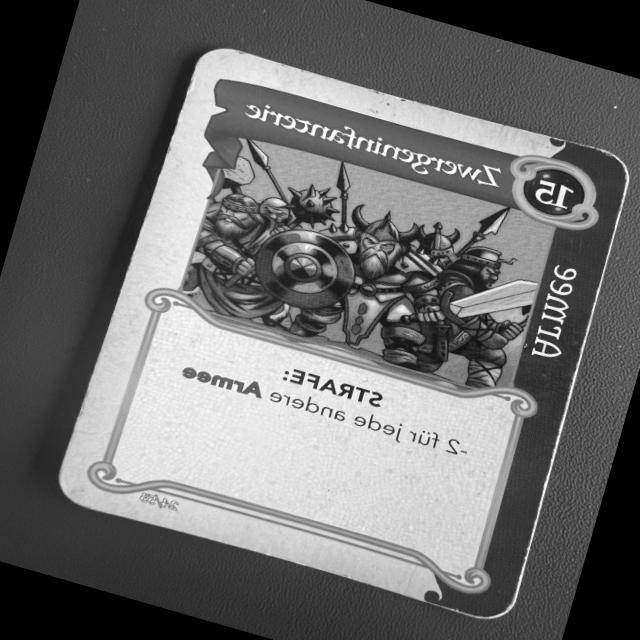Dwarvish Infantry: (47, 39, 638, 629)
